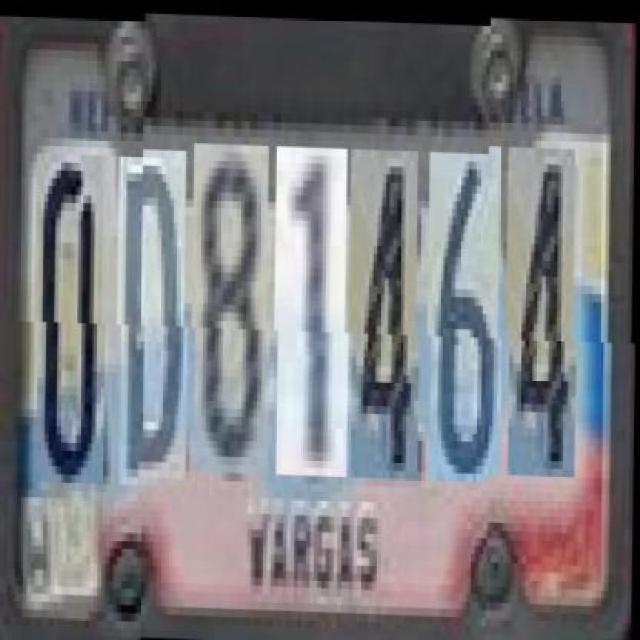0: (38, 144, 108, 476)
1: (278, 143, 352, 474)
4: (508, 150, 580, 482), (352, 146, 422, 477)
6: (430, 148, 504, 480)
8: (195, 142, 272, 472)
d: (120, 147, 191, 478)
